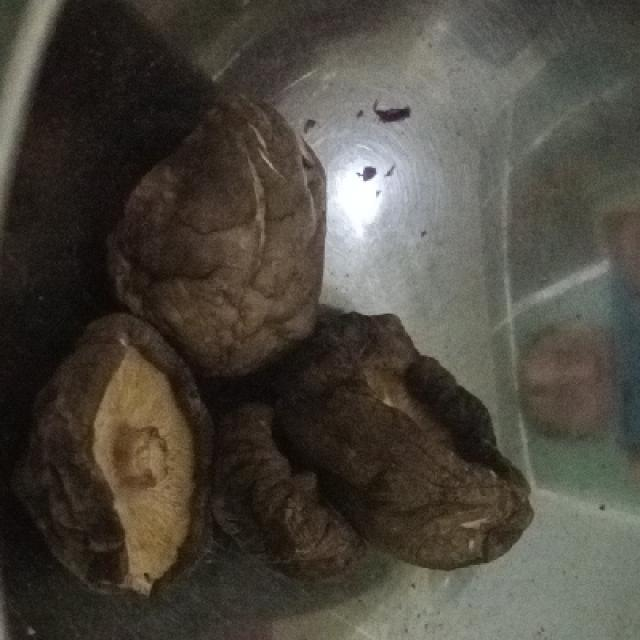Lentinus edodes: (296, 316, 536, 570), (110, 98, 327, 373), (40, 317, 222, 601), (214, 389, 374, 582)
